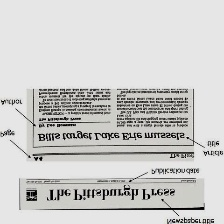news_paper: (25, 87, 195, 161), (17, 176, 206, 211)
